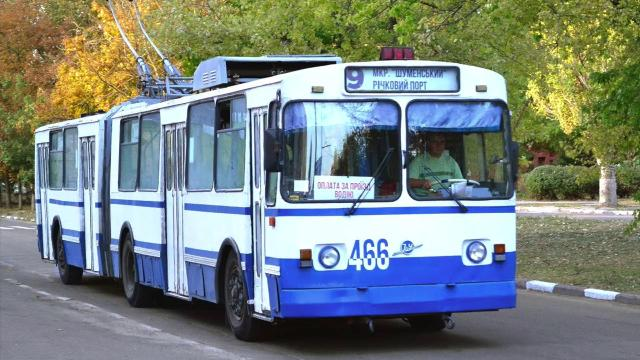bus: (31, 43, 525, 344)
